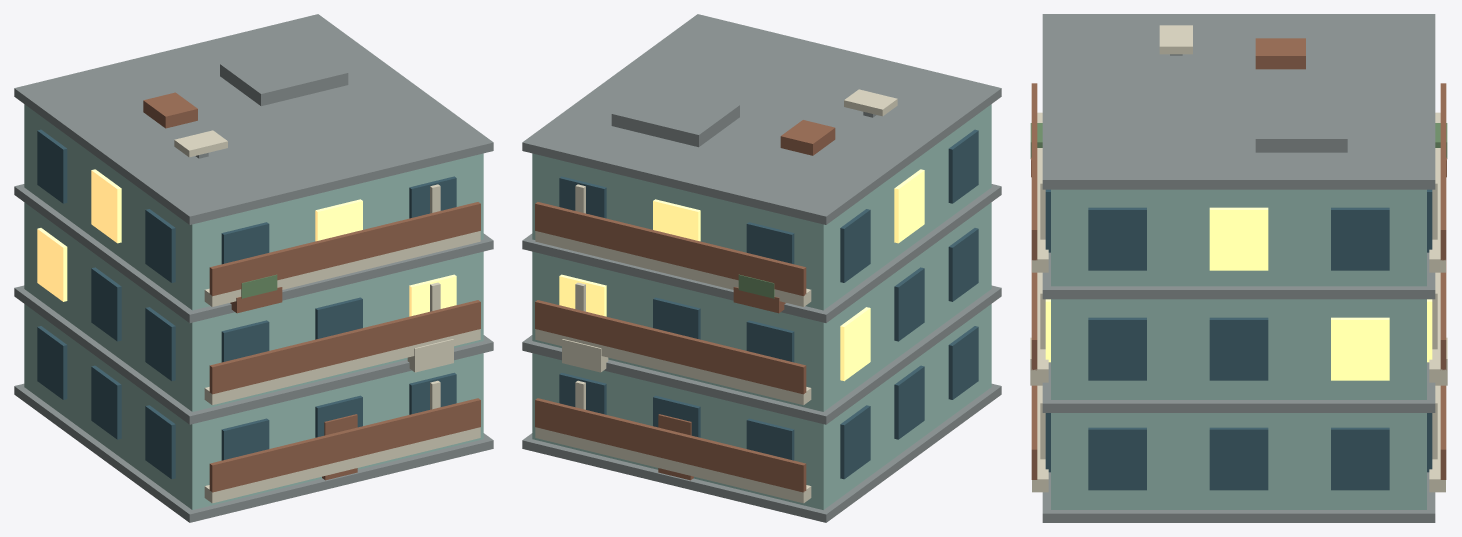
The model's file is yugoslav-slab.glb.
3 renders of one model, left to right at view 1: azimuth 30°, elevation 25°; view 2: azimuth 150°, elevation 25°; view 3: azimuth 270°, elevation 25°, orthographic. The views are drawn at different scales.
Parts seen in each view (by area): view 1: Module_1; view 2: Module_1; view 3: Module_1.
Boxes of the visible parts, box(x1,y1,x2,y2) form: Module_1: box(14, 14, 493, 522); Module_1: box(522, 14, 1001, 522); Module_1: box(1030, 14, 1447, 522).
Bounding box in the file's own units: 0.94 × 0.9495 × 0.998.
